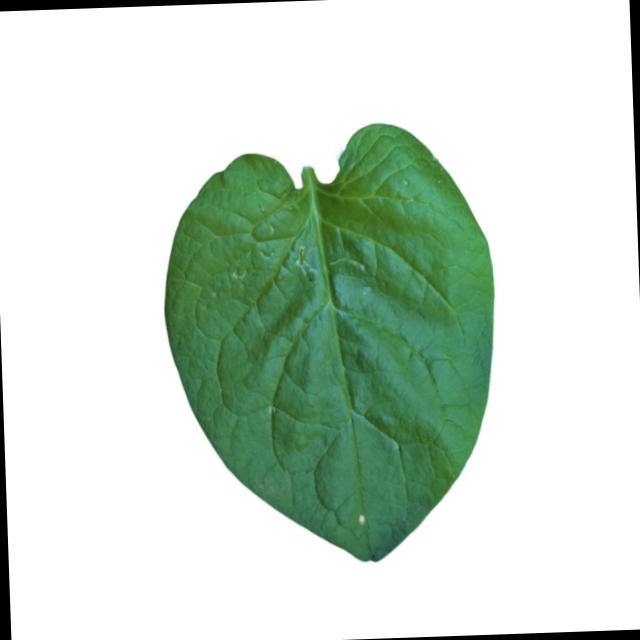Medicinal-Basale: (156, 115, 504, 568)
